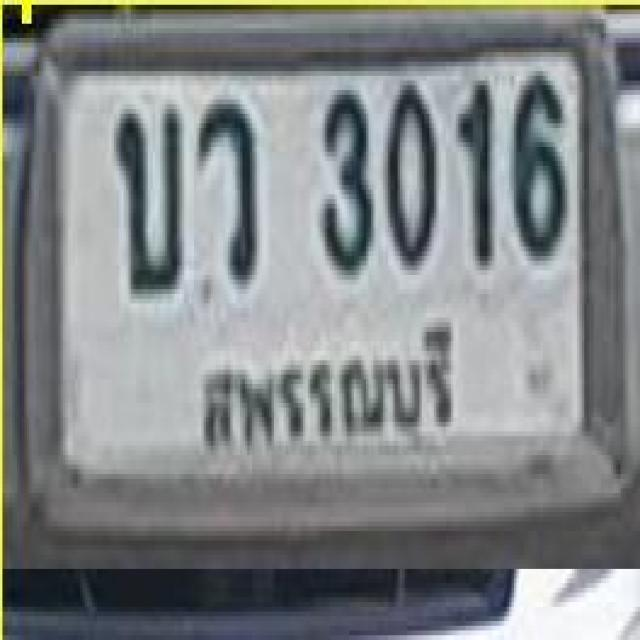license_plate: (30, 24, 635, 546)
